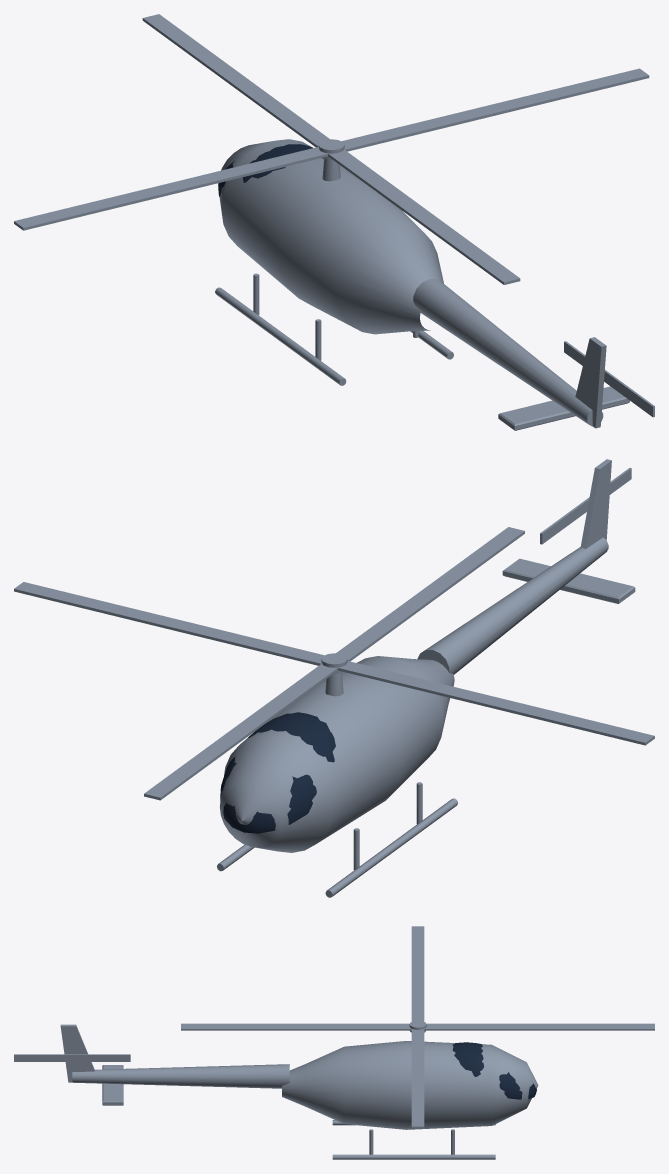
The model's file is helicopter.glb.
3 renders of one model, top to bottom at view 1: azimuth 30°, elevation 25°; view 2: azimuth 150°, elevation 25°; view 3: azimuth 270°, elevation 25°, orthographic. The views are drawn at different scales.
Parts seen in each view (by area): view 1: Cabin, TailBoom, MainBlade4, MainBlade2, MainBlade1, MainBlade3, Fin, Stabiliser, SkidLeft, Canopy, TailBlade1; view 2: Cabin, TailBoom, MainBlade4, MainBlade2, Canopy, MainBlade3, MainBlade1, Stabiliser, Fin, SkidLeft, TailBlade2; view 3: Cabin, TailBoom, MainBlade1, MainBlade3, MainBlade2, MainBlade4, Canopy, SkidRight, Fin, Stabiliser, TailBlade1, TailBlade2.
Part boxes in pixels (bbox=[...]): Cabin: bbox=[218, 139, 443, 334]; TailBoom: bbox=[413, 279, 603, 426]; MainBlade4: bbox=[14, 147, 327, 230]; MainBlade2: bbox=[341, 68, 649, 151]; MainBlade1: bbox=[328, 149, 520, 284]; MainBlade3: bbox=[142, 14, 329, 147]; Fin: bbox=[575, 337, 606, 428]; Stabiliser: bbox=[498, 386, 629, 430]; SkidLeft: bbox=[215, 287, 346, 385]; Canopy: bbox=[218, 144, 322, 196]; TailBlade1: bbox=[608, 373, 654, 417]; Cabin: bbox=[219, 656, 454, 852]; TailBoom: bbox=[417, 537, 608, 674]; MainBlade4: bbox=[338, 661, 654, 745]; MainBlade2: bbox=[14, 582, 323, 665]; Canopy: bbox=[220, 712, 335, 833]; MainBlade3: bbox=[144, 663, 337, 800]; MainBlade1: bbox=[336, 527, 524, 661]; Stabiliser: bbox=[502, 558, 635, 603]; Fin: bbox=[580, 459, 611, 549]; SkidLeft: bbox=[325, 798, 457, 897]; TailBlade2: bbox=[540, 500, 586, 544]; Cabin: bbox=[282, 1041, 538, 1129]; TailBoom: bbox=[72, 1064, 289, 1088]; MainBlade1: bbox=[181, 1023, 411, 1030]; MainBlade3: bbox=[424, 1023, 654, 1030]; MainBlade2: bbox=[411, 1029, 424, 1128]; MainBlade4: bbox=[411, 926, 424, 1021]; Canopy: bbox=[452, 1042, 536, 1099]; SkidRight: bbox=[332, 1154, 495, 1159]; Fin: bbox=[60, 1024, 94, 1082]; Stabiliser: bbox=[102, 1065, 123, 1105]; TailBlade1: bbox=[14, 1054, 72, 1061]; TailBlade2: bbox=[72, 1054, 130, 1061].
Size of the model in its own units: 12.2 by 3.36 by 16.5.
